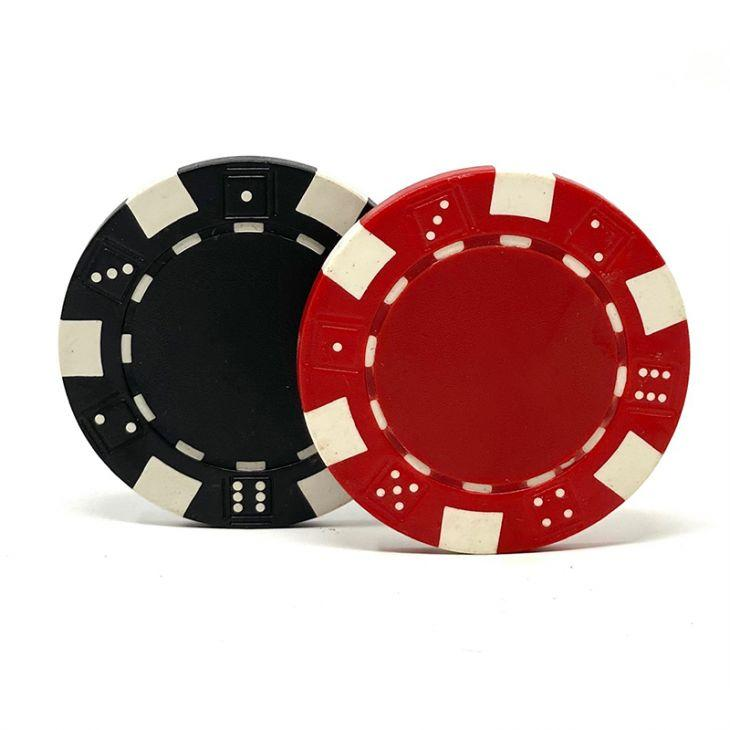chip-black: (58, 157, 368, 526)
chip-red: (298, 167, 690, 552)
